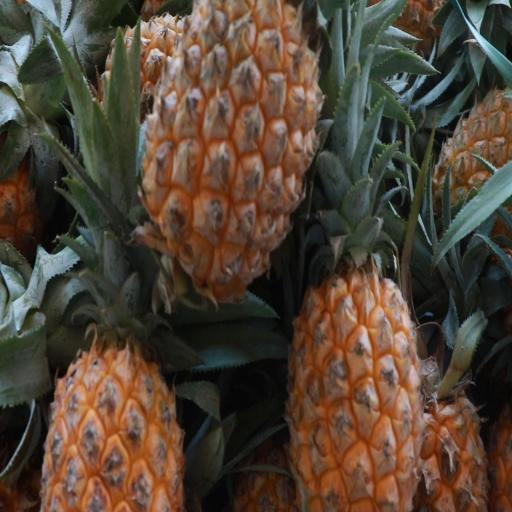Pineapple - v8 v1: (134, 0, 330, 310), (282, 151, 429, 512), (35, 275, 193, 512), (410, 336, 491, 512)
